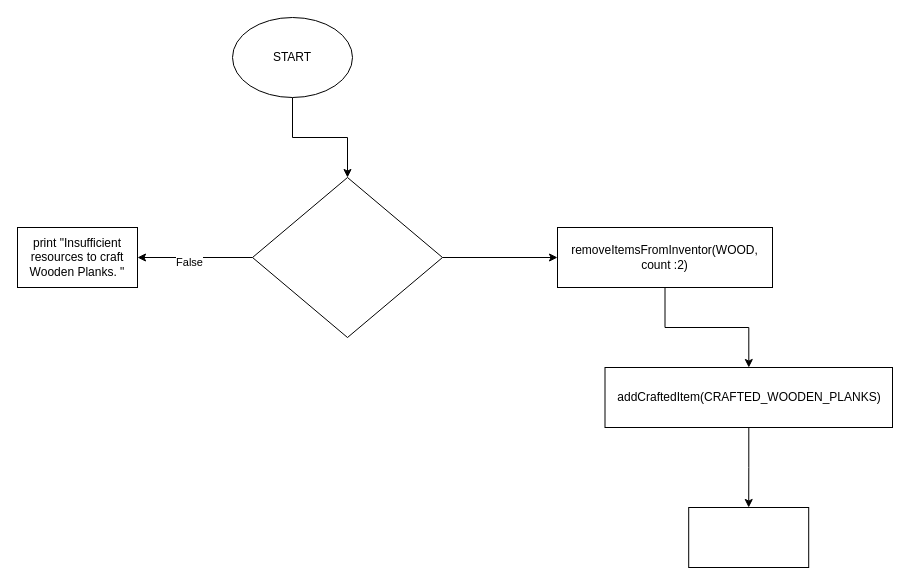
Image size: 910x585. Some labels were removed from this diagram. Here are the shapes that lost their labels. From the top down, the box of each, then its label:
(252, 176, 442, 338): invetoryContains(WOOD,count:2)
(688, 506, 809, 568): print "Crafted Wooden Planks"
